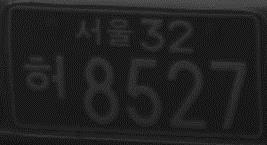2: (166, 60, 207, 132), (168, 18, 199, 55)
3: (139, 16, 166, 54)
5: (126, 57, 162, 128)
7: (208, 60, 249, 133)
8: (81, 56, 122, 128)
서울_O: (74, 16, 135, 50)
허: (21, 54, 68, 102)
